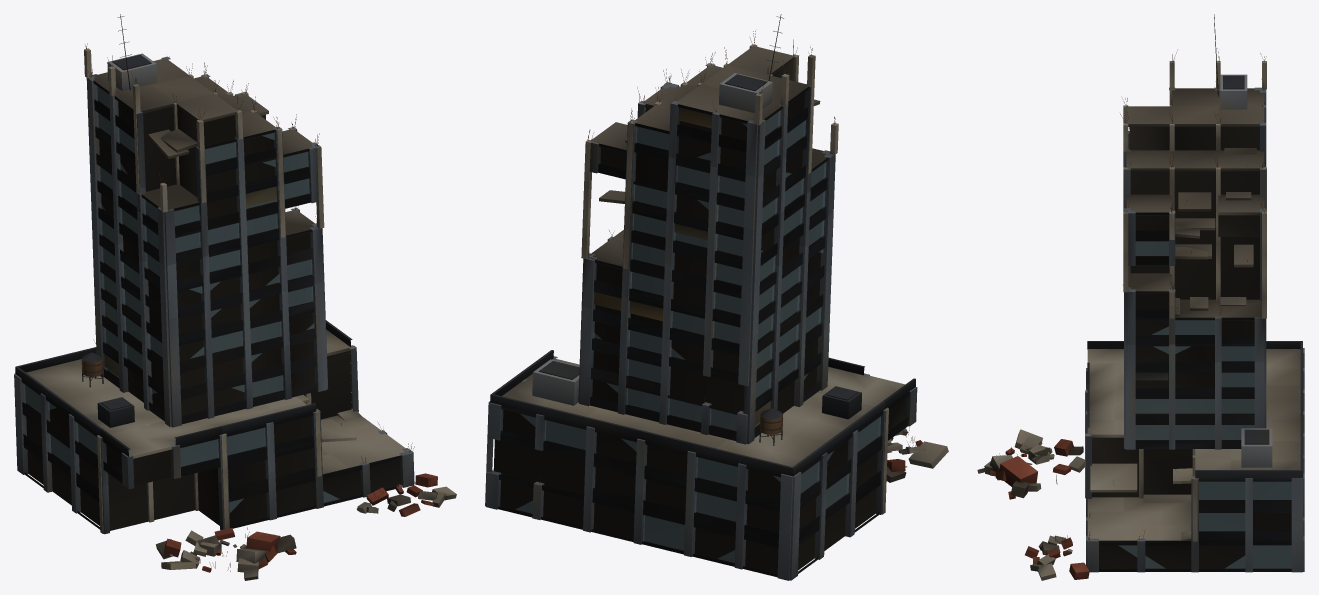
The model's file is ruin_office_b.glb.
3 views of the same model, side by side, from view 1: azimuth 30°, elevation 25°; view 2: azimuth 150°, elevation 25°; view 3: azimuth 270°, elevation 25° (orthographic). The views are drawn at different scales.
Visible parts, largest first — view 1: concrete_dark, metal_dark, steel_beam, concrete, glass, brick, metal_bare, canvas; view 2: concrete_dark, metal_dark, steel_beam, glass, concrete, metal_bare, canvas; view 3: concrete_dark, concrete, metal_dark, steel_beam, glass, brick, metal_bare, rebar.
Boxes of the visible parts, x1=… form: concrete_dark: x1=25, y1=58, x2=410, y2=560; metal_dark: x1=15, y1=14, x2=401, y2=529; steel_beam: x1=14, y1=56, x2=414, y2=534; concrete: x1=27, y1=48, x2=456, y2=580; glass: x1=23, y1=85, x2=338, y2=512; brick: x1=164, y1=473, x2=437, y2=572; metal_bare: x1=107, y1=53, x2=157, y2=91; canvas: x1=104, y1=186, x2=276, y2=376; concrete_dark: x1=493, y1=46, x2=911, y2=574; metal_dark: x1=490, y1=14, x2=915, y2=577; steel_beam: x1=485, y1=63, x2=917, y2=580; glass: x1=516, y1=111, x2=880, y2=562; concrete: x1=502, y1=44, x2=948, y2=514; metal_bare: x1=532, y1=73, x2=772, y2=405; canvas: x1=594, y1=107, x2=770, y2=425; concrete_dark: x1=1010, y1=88, x2=1291, y2=569; concrete: x1=977, y1=61, x2=1300, y2=580; metal_dark: x1=1087, y1=14, x2=1302, y2=571; steel_beam: x1=1086, y1=87, x2=1304, y2=572; glass: x1=1119, y1=241, x2=1291, y2=568; brick: x1=990, y1=439, x2=1089, y2=579; metal_bare: x1=1220, y1=74, x2=1272, y2=467; rebar: x1=996, y1=48, x2=1303, y2=542.
Size of what is drawn, in the model's own units: 43.55 by 65.31 by 42.49.
